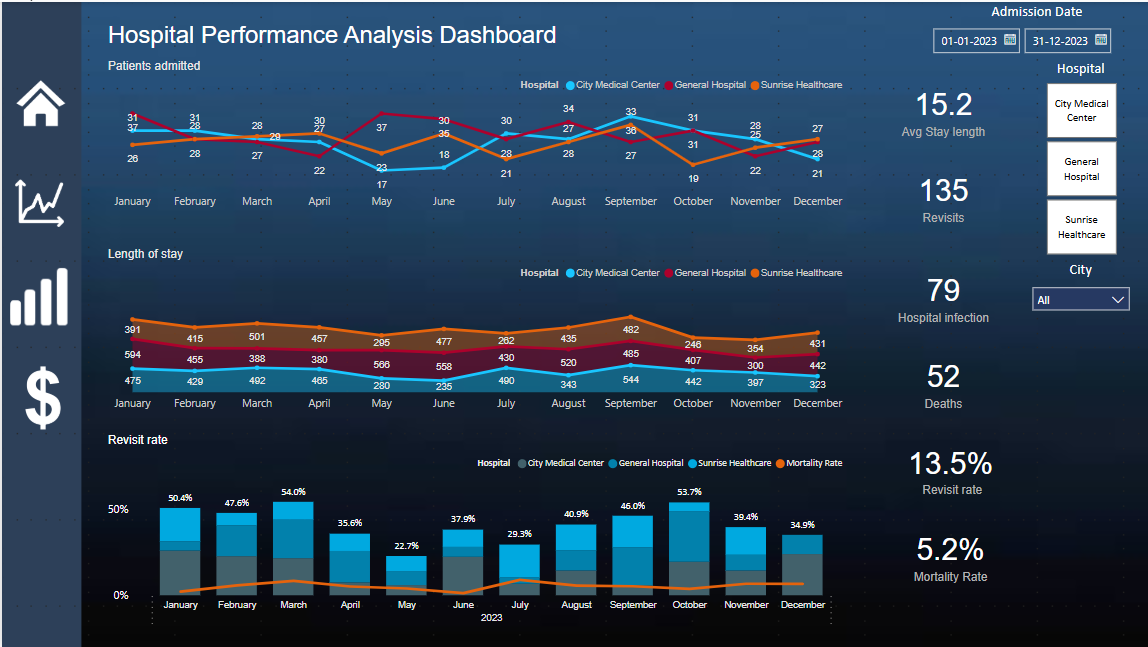

The page's visual inventory and layout, read from the dashboard file:
{"tool":"powerbi","page":{"name":"Trends","canvas":[1280,720],"ordinal":1},"visuals":[{"type":"slicer","title":"Hospital","fields":{"Values":["enhanced_healthcare_data.Hospital"]},"box":[1136,64,128,224],"z":0},{"type":"lineChart","title":"Patients admitted","fields":{"Category":["enhanced_healthcare_data.AdmissionDate.Variation.Date Hierarchy.Year","enhanced_healthcare_data.AdmissionDate.Variation.Date Hierarchy.Quarter","enhanced_healthcare_data.AdmissionDate.Variation.Date Hierarchy.Month","enhanced_healthcare_data.AdmissionDate.Variation.Date Hierarchy.Day"],"Y":["CountNonNull(enhanced_healthcare_data.PatientID)"],"Series":["enhanced_healthcare_data.Hospital"]},"box":[112,64,832,176],"z":1000},{"type":"slicer","title":"City","fields":{"Values":["enhanced_healthcare_data.City"]},"box":[1136,288,128,80],"z":2000},{"type":"slicer","title":"Admission Date","fields":{"Values":["enhanced_healthcare_data.AdmissionDate"]},"box":[1024,0,256,80],"z":3000},{"type":"textbox","box":[112,16,896,64],"z":4000},{"type":"stackedAreaChart","title":"Length of stay","fields":{"Category":["enhanced_healthcare_data.AdmissionDate.Variation.Date Hierarchy.Year","enhanced_healthcare_data.AdmissionDate.Variation.Date Hierarchy.Quarter","enhanced_healthcare_data.AdmissionDate.Variation.Date Hierarchy.Month","enhanced_healthcare_data.AdmissionDate.Variation.Date Hierarchy.Day"],"Series":["enhanced_healthcare_data.Hospital"],"Y":["Sum(enhanced_healthcare_data.LengthOfStay)"]},"box":[112,272,832,192],"z":5000},{"type":"image","box":[0,80,87,64],"z":6000},{"type":"image","box":[10,192,64,64],"z":7000},{"type":"card","title":"Total Patients","fields":{"Values":["Avg(enhanced_healthcare_data.LengthOfStay)"]},"box":[992,80,112,80],"z":8000},{"type":"card","title":"Total Doctors","fields":{"Values":["Sum(enhanced_healthcare_data.HospitalAcquiredInfection)"]},"box":[992,288,112,80],"z":9000},{"type":"card","title":"Total Cities","fields":{"Values":["Sum(enhanced_healthcare_data.RevisitWithin30Days)"]},"box":[992,176,112,80],"z":10000},{"type":"card","title":"Total Doctors","fields":{"Values":["Sum(enhanced_healthcare_data.MortalityRate)"]},"box":[992,384,112,80],"z":11000},{"type":"image","box":[4,288,74,80],"z":12000},{"type":"card","title":"Total Doctors","fields":{"Values":["enhanced_healthcare_data.ReadmissionRate"]},"box":[992,480,128,80],"z":13000},{"type":"card","title":"Total Doctors","fields":{"Values":["enhanced_healthcare_data.Mortality_nRate"]},"box":[992,576,128,80],"z":14000},{"type":"lineStackedColumnComboChart","title":"Revisit rate","fields":{"Series":["enhanced_healthcare_data.Hospital"],"Category":["enhanced_healthcare_data.AdmissionDate.Variation.Date Hierarchy.Year","enhanced_healthcare_data.AdmissionDate.Variation.Date Hierarchy.Month","enhanced_healthcare_data.AdmissionDate.Variation.Date Hierarchy.Day"],"Y2":["enhanced_healthcare_data.Mortality_nRate"],"Y":["enhanced_healthcare_data.ReadmissionRate"]},"box":[112,480,832,224],"z":15000},{"type":"image","box":[6,400,80,80],"z":16000}]}

Visuals, with their boxes on the page's 1280x720 design canvas (x1, y1, x2, y2). These are canvas units, not pixel positions in the 1148x647 screenshot, which may show the page scaled, cropped or inside an application window:
"Hospital" slicer: [left=1136, top=64, right=1264, bottom=288]
"Patients admitted" lineChart: [left=112, top=64, right=944, bottom=240]
"City" slicer: [left=1136, top=288, right=1264, bottom=368]
"Admission Date" slicer: [left=1024, top=0, right=1280, bottom=80]
textbox: [left=112, top=16, right=1008, bottom=80]
"Length of stay" stackedAreaChart: [left=112, top=272, right=944, bottom=464]
image: [left=0, top=80, right=87, bottom=144]
image: [left=10, top=192, right=74, bottom=256]
"Total Patients" card: [left=992, top=80, right=1104, bottom=160]
"Total Doctors" card: [left=992, top=288, right=1104, bottom=368]
"Total Cities" card: [left=992, top=176, right=1104, bottom=256]
"Total Doctors" card: [left=992, top=384, right=1104, bottom=464]
image: [left=4, top=288, right=78, bottom=368]
"Total Doctors" card: [left=992, top=480, right=1120, bottom=560]
"Total Doctors" card: [left=992, top=576, right=1120, bottom=656]
"Revisit rate" lineStackedColumnComboChart: [left=112, top=480, right=944, bottom=704]
image: [left=6, top=400, right=86, bottom=480]
